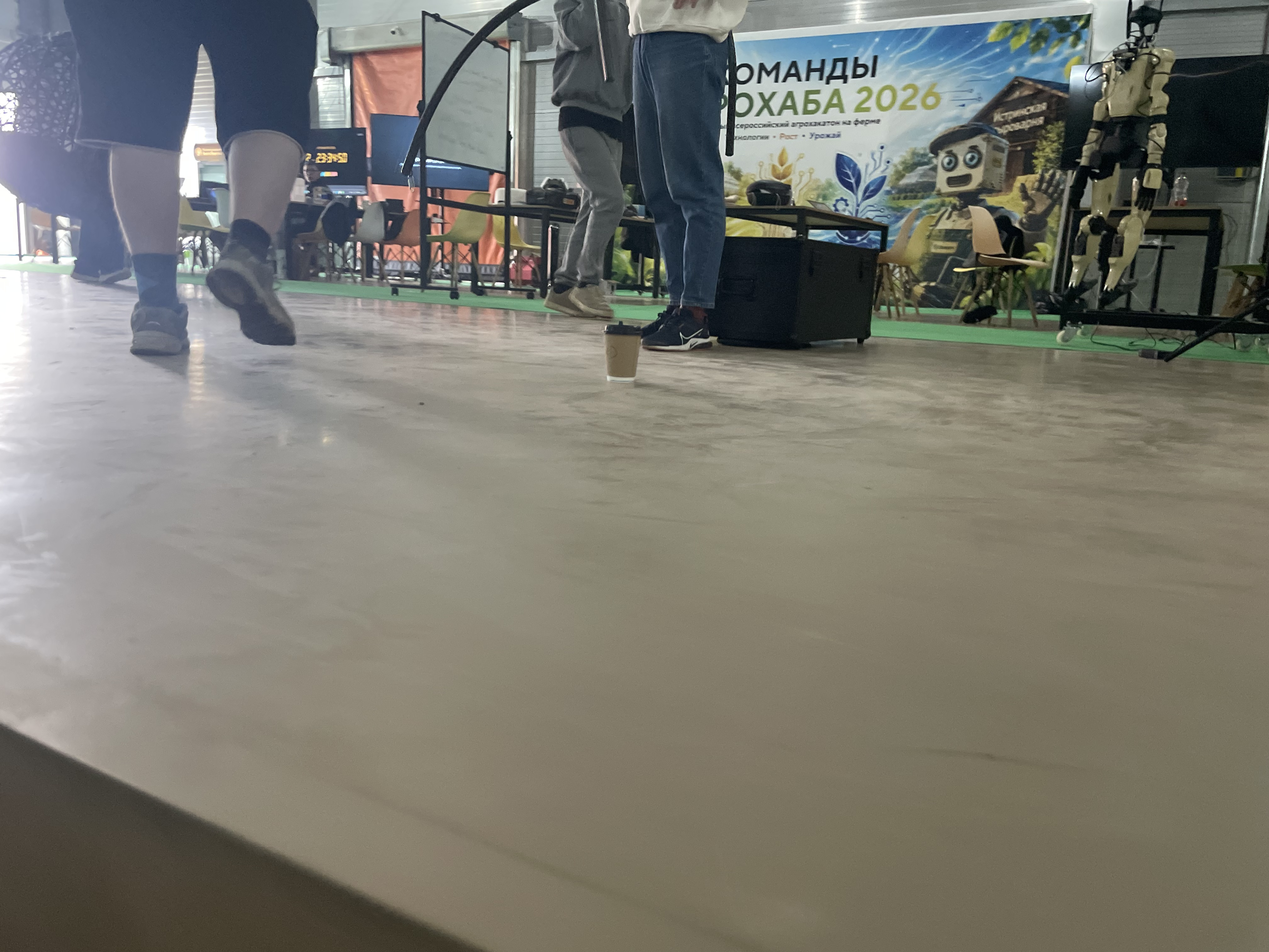cup: (603, 321, 643, 383)
